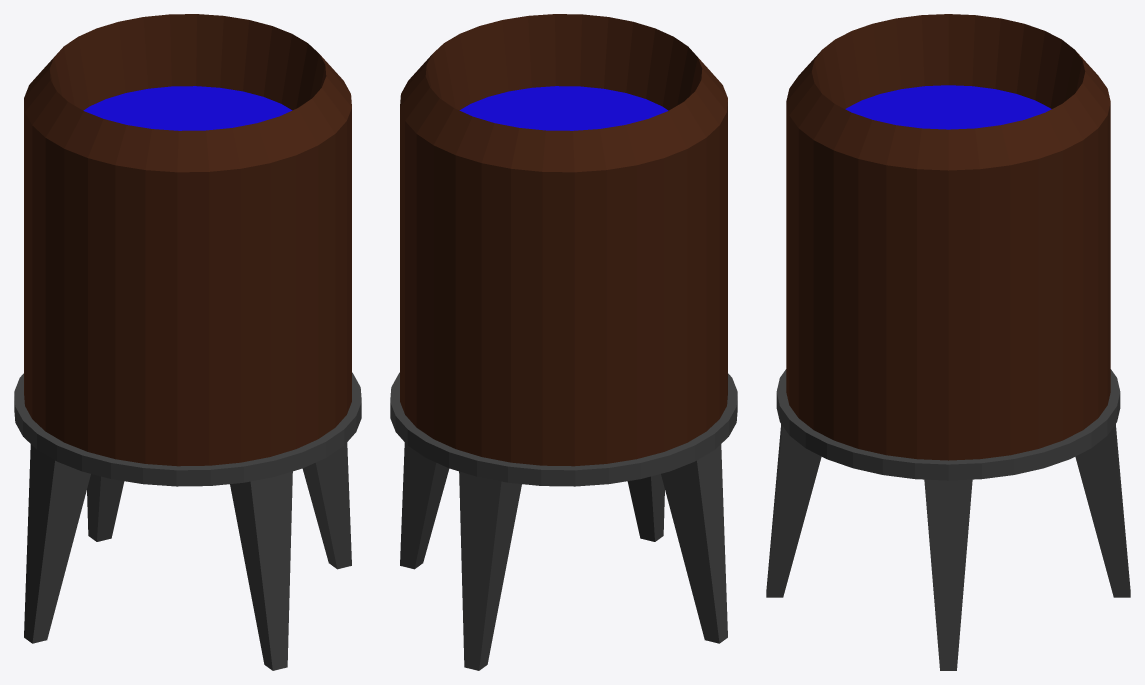
The model's file is station_watertower.glb.
The picture shows the model from 3 angles, left to right: view 1: azimuth 30°, elevation 25°; view 2: azimuth 150°, elevation 25°; view 3: azimuth 270°, elevation 25°; orthographic projection.
Visible parts, largest first — view 1: Cylinder.014, Cube.005, Cube.001, Cylinder.015; view 2: Cylinder.014, Cube.005, Cube.001, Cylinder.015; view 3: Cylinder.014, Cube.001, Cylinder.015, Cube.005.
Boxes of the visible parts, box(x1,y1,x2,y2) form: Cylinder.014: box(24, 14, 351, 466); Cube.005: box(24, 442, 351, 643); Cube.001: box(87, 471, 292, 670); Cylinder.015: box(14, 372, 361, 486); Cylinder.014: box(400, 14, 727, 466); Cube.005: box(400, 442, 727, 643); Cube.001: box(459, 471, 664, 670); Cylinder.015: box(390, 372, 737, 486); Cylinder.014: box(786, 14, 1110, 460); Cube.001: box(766, 424, 1130, 597); Cylinder.015: box(776, 369, 1120, 480); Cube.005: box(924, 479, 972, 670).
Size of the model in its own units: 3.73 by 5.9 by 3.73.
